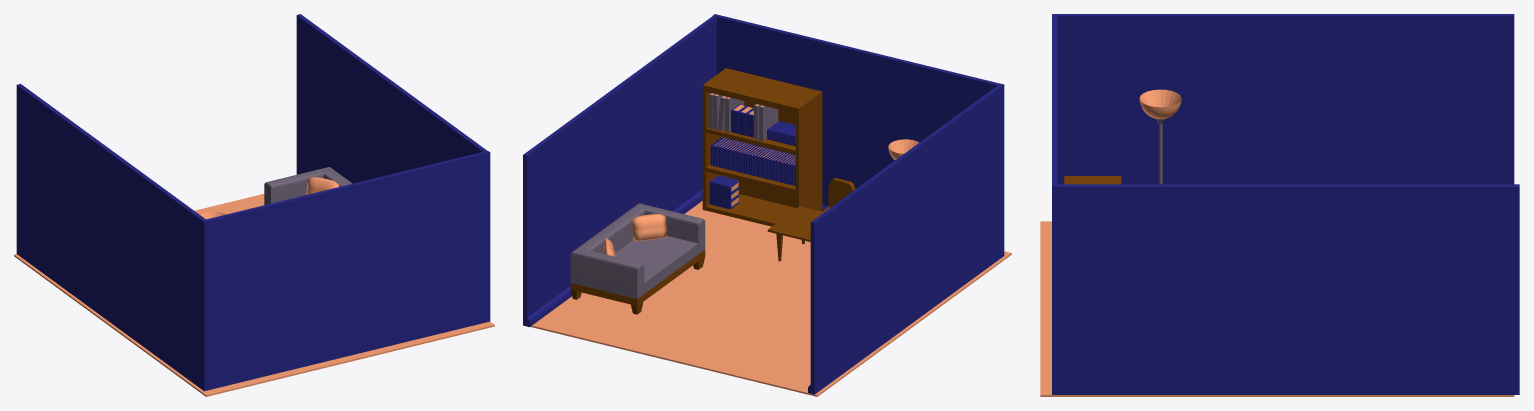
The model's file is the big scene.fbx.
3 renders of one model, left to right at view 1: azimuth 30°, elevation 25°; view 2: azimuth 150°, elevation 25°; view 3: azimuth 270°, elevation 25°, orthographic. The views are drawn at different scales.
Visible parts, largest first — view 1: WallPieceB, WallPieceR, WallPieceL, Floor, polySurface5; view 2: WallPieceR, WallPieceL, Floor, WallPieceB, bookcase_only:Bookcase, polySurface5, bookstop:BCaseBooksTop, booksmid:BCaseBooksMid, polySurface3, polySurface6, only_table:Table, bookslow:BCaseBooksLow (+3 smaller); view 3: WallPieceL, WallPieceR, Floor, WallPieceB, lamp_only:Lamp, bookcase_only:Bookcase.
Part boxes in pixels (x1=…): WallPieceB: x1=206, y1=150, x2=490, y2=390; WallPieceR: x1=16, y1=84, x2=207, y2=391; WallPieceL: x1=296, y1=14, x2=486, y2=183; Floor: x1=14, y1=194, x2=494, y2=396; polySurface5: x1=264, y1=167, x2=352, y2=204; WallPieceR: x1=808, y1=83, x2=1004, y2=394; WallPieceL: x1=523, y1=16, x2=716, y2=327; Floor: x1=530, y1=201, x2=1011, y2=396; WallPieceB: x1=713, y1=14, x2=999, y2=210; bookcase_only:Bookcase: x1=702, y1=68, x2=822, y2=226; polySurface5: x1=570, y1=203, x2=705, y2=298; bookstop:BCaseBooksTop: x1=708, y1=93, x2=795, y2=146; booksmid:BCaseBooksMid: x1=710, y1=136, x2=795, y2=185; polySurface3: x1=619, y1=236, x2=697, y2=269; polySurface6: x1=570, y1=249, x2=705, y2=314; only_table:Table: x1=767, y1=206, x2=823, y2=261; bookslow:BCaseBooksLow: x1=709, y1=175, x2=739, y2=209; WallPieceL: x1=1057, y1=184, x2=1519, y2=394; WallPieceR: x1=1052, y1=14, x2=1514, y2=184; Floor: x1=1040, y1=221, x2=1514, y2=396; WallPieceB: x1=1052, y1=16, x2=1061, y2=394; lamp_only:Lamp: x1=1139, y1=89, x2=1181, y2=184; bookcase_only:Bookcase: x1=1064, y1=176, x2=1121, y2=184.
Size of the model in its own units: 43.85 by 25.19 by 51.1.
2 materials, 1 textured.
